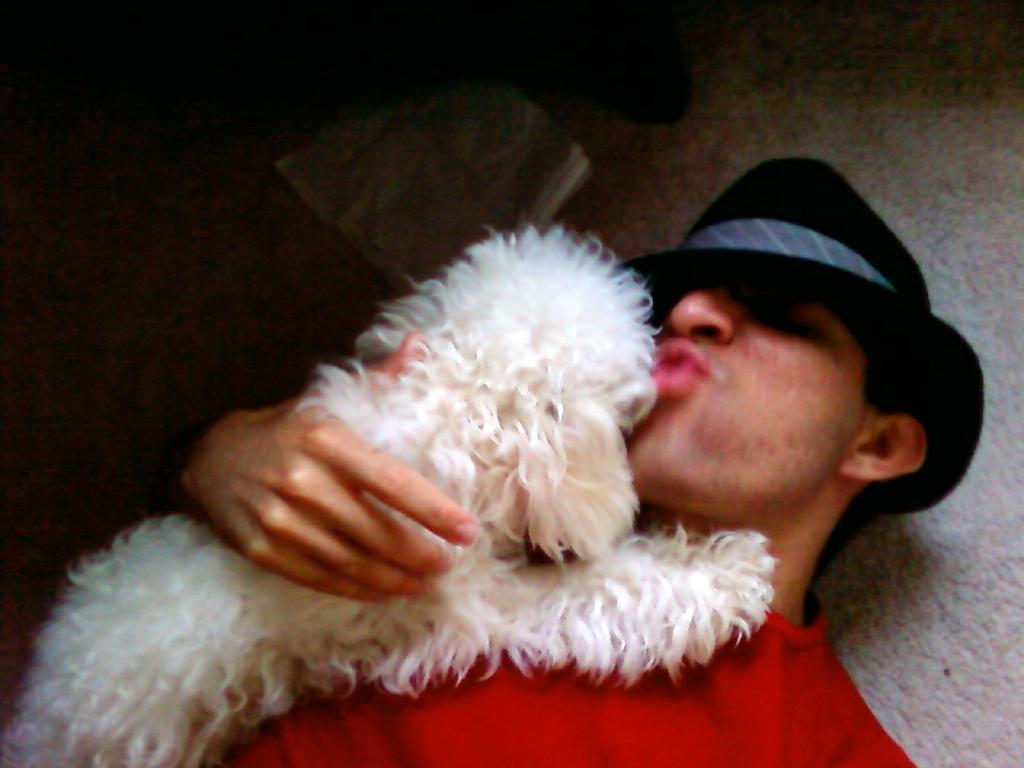Hat: (614, 154, 984, 516)
